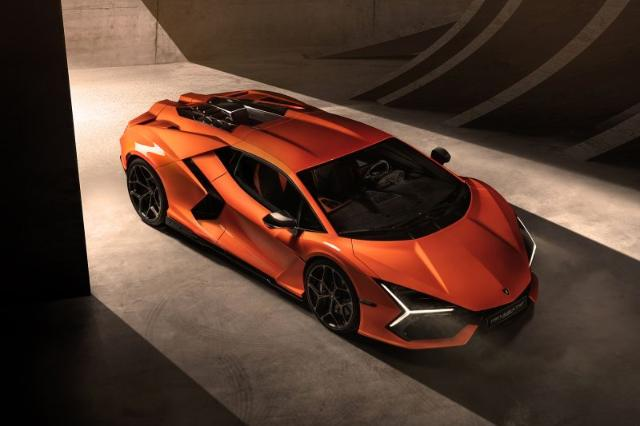lamborghini: (118, 90, 540, 350)
